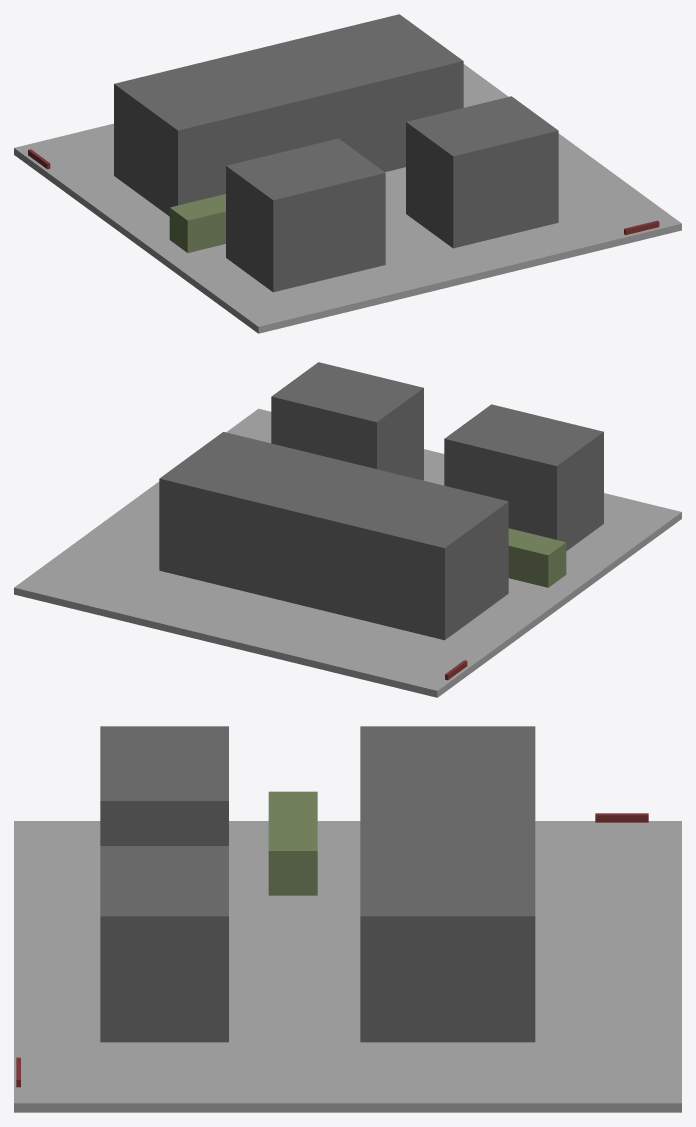
The model's file is Gigaverse_Blockout.fbx.
3 renders of one model, top to bottom at view 1: azimuth 30°, elevation 25°; view 2: azimuth 150°, elevation 25°; view 3: azimuth 270°, elevation 25°, orthographic. The views are drawn at different scales.
Parts seen in each view (by area): view 1: PR_BigBuilding_01, PR_Plane_01, PR_SmallBuilding1_01, PR_SmallBuilding2_01, PR_StreetCar_01; view 2: PR_BigBuilding_01, PR_Plane_01, PR_SmallBuilding1_01, PR_SmallBuilding2_01, PR_StreetCar_01; view 3: PR_Plane_01, PR_BigBuilding_01, PR_SmallBuilding2_01, PR_SmallBuilding1_01, PR_StreetCar_01.
Boxes of the visible parts, <box> form: PR_BigBuilding_01: <box>114,14,463,216</box>; PR_Plane_01: <box>14,64,681,333</box>; PR_SmallBuilding1_01: <box>226,138,385,292</box>; PR_SmallBuilding2_01: <box>406,96,558,248</box>; PR_StreetCar_01: <box>169,194,225,252</box>; PR_BigBuilding_01: <box>159,432,508,640</box>; PR_Plane_01: <box>14,408,681,697</box>; PR_SmallBuilding1_01: <box>444,404,603,550</box>; PR_SmallBuilding2_01: <box>271,362,423,480</box>; PR_StreetCar_01: <box>508,528,566,587</box>; PR_Plane_01: <box>14,821,681,1112</box>; PR_BigBuilding_01: <box>360,726,535,1042</box>; PR_SmallBuilding2_01: <box>100,846,228,1042</box>; PR_SmallBuilding1_01: <box>100,726,228,845</box>; PR_StreetCar_01: <box>268,791,317,895</box>.
Size of the model in its own units: 12.25 by 2.74 by 12.25.
